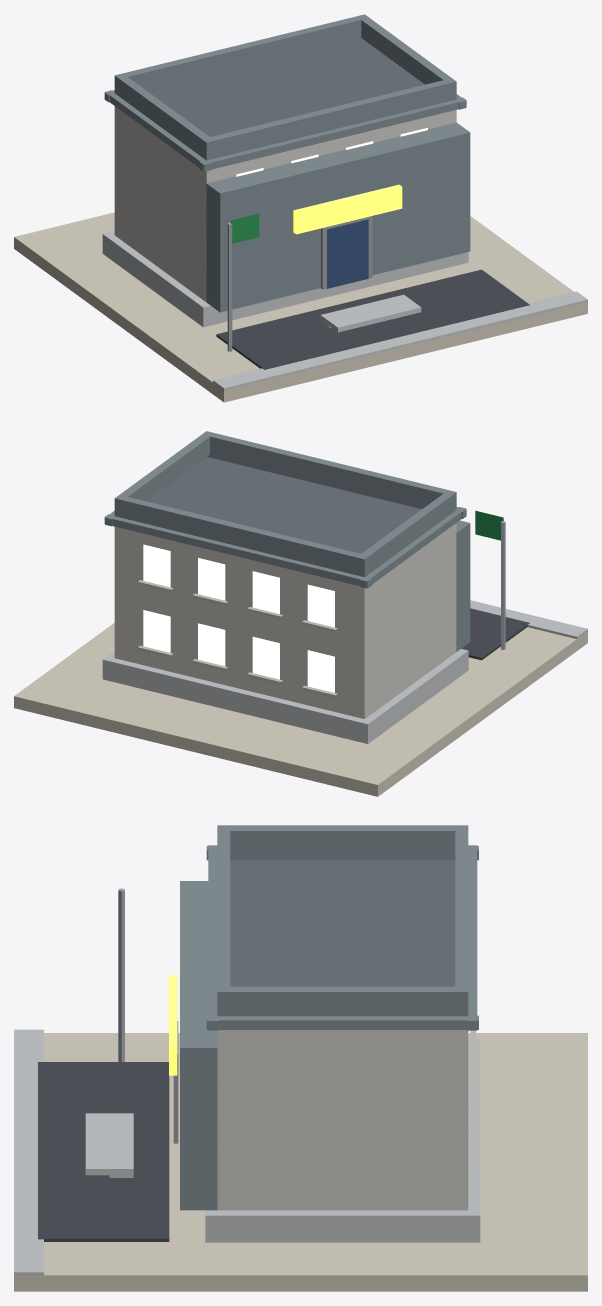
3 renders of one model, top to bottom at view 1: azimuth 30°, elevation 25°; view 2: azimuth 150°, elevation 25°; view 3: azimuth 270°, elevation 25°, orthographic. The views are drawn at different scales.
Parts seen in each view (by area): view 1: b24_v2_lod1; view 2: b24_v2_lod1; view 3: b24_v2_lod1.
Part boxes in pixels (x1,y1,x2,y2): b24_v2_lod1: [14, 14, 587, 402]; b24_v2_lod1: [14, 431, 587, 796]; b24_v2_lod1: [14, 825, 587, 1291].
Size of the model in its own units: 0.96 by 0.483 by 0.96.
